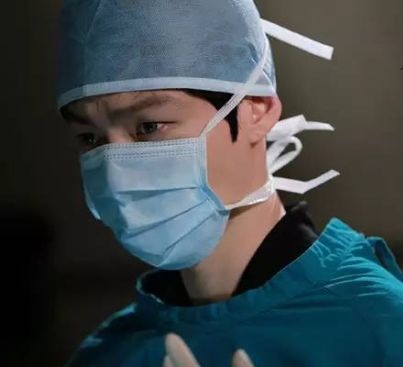face_mask: (73, 66, 222, 274)
